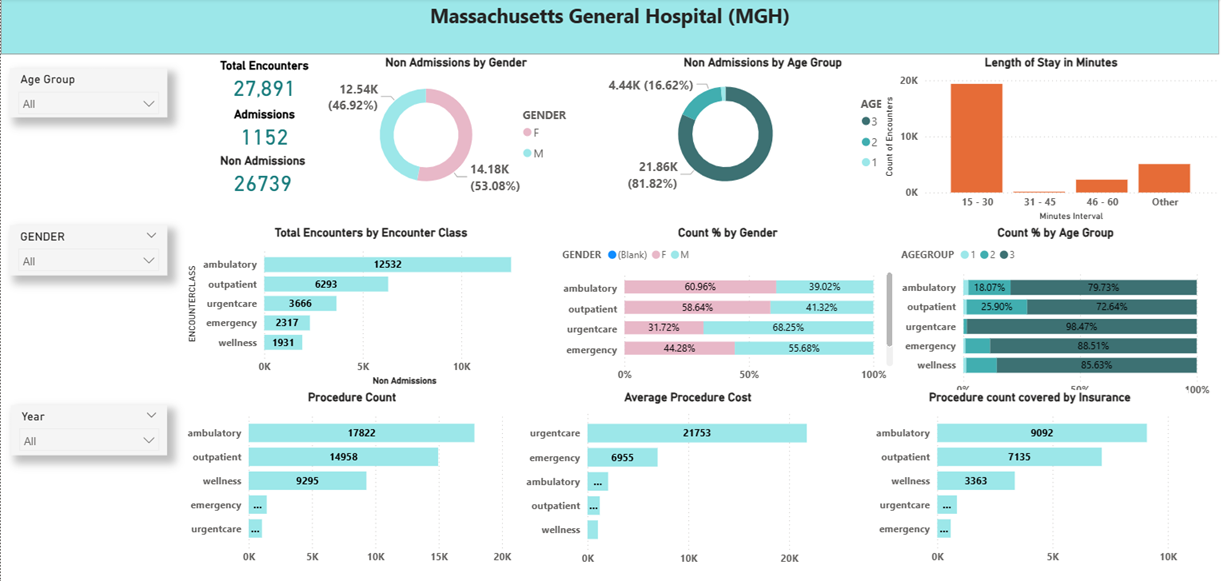

This screenshot's page, from the dashboard's own definition file:
{"tool":"powerbi","page":{"name":"Non Admissions","canvas":[1500,720],"ordinal":0},"visuals":[{"type":"textbox","box":[0,0,1490.6,68.6],"z":1000},{"type":"card","title":"Total Encounters","fields":{"Values":["CountNonNull(hospital_db encounters.Id)"]},"box":[223.8,73.6,197.7,59.2],"z":2000},{"type":"card","title":"Admissions","fields":{"Values":["CountNonNull(hospital_db encounters.LENGTHOFSTAY)"]},"box":[223.8,132.7,197.7,59.2],"z":3000},{"type":"card","title":"Non Admissions","fields":{"Values":["CountNonNull(hospital_db encounters.LENGTHOFSTAY)"]},"box":[222.4,189,196.2,59.2],"z":4000},{"type":"donutChart","title":"Non Admissions by Gender","fields":{"Y":["CountNonNull(hospital_db encounters.LENGTHOFSTAY)"],"Category":["hospital_db patients.GENDER"]},"box":[396.9,69.7,319.2,178.5],"z":5000},{"type":"donutChart","title":"Non Admissions by Age Group","fields":{"Y":["CountNonNull(hospital_db encounters.LENGTHOFSTAY)"],"Category":["AgeGroup.AGEGROUP"]},"box":[716.1,69.7,431.7,176.1],"z":6000},{"type":"hundredPercentStackedBarChart","title":"Count % by Gender","fields":{"Category":["hospital_db encounters.ENCOUNTERCLASS"],"Series":["hospital_db patients.GENDER"],"Y":["CountNonNull(hospital_db encounters.LENGTHOFSTAY)"]},"box":[681.9,277.6,414.5,201.8],"z":7000},{"type":"hundredPercentStackedBarChart","title":"Count % by Age Group","fields":{"Category":["hospital_db encounters.ENCOUNTERCLASS"],"Y":["CountNonNull(hospital_db encounters.LENGTHOFSTAY)"],"Series":["AgeGroup.AGEGROUP"]},"box":[1096.4,277.6,387.6,220.1],"z":8000},{"type":"barChart","title":"Total Encounters by Encounter Class","fields":{"Category":["hospital_db encounters.ENCOUNTERCLASS"],"Y":["CountNonNull(hospital_db encounters.LENGTHOFSTAY)"]},"box":[223.3,277.6,458.6,201.8],"z":9000},{"type":"clusteredColumnChart","title":"Length of Stay in Minutes","fields":{"Category":["hospital_db encounters.LENGTHOFSTAYMINUTES (List)"],"Y":["CountNonNull(hospital_db encounters.LENGTHOFSTAYMINUTES)"]},"box":[1076.8,69.7,415.8,207.9],"z":10000},{"type":"barChart","title":"Average Procedure Cost","fields":{"Category":["hospital_db encounters.ENCOUNTERCLASS"],"Y":["Avg(hospital_db procedures.BASE_COST)"]},"box":[637.7,478.8,407.6,224.3],"z":11000},{"type":"barChart","title":"Procedure count covered by Insurance","fields":{"Category":["hospital_db encounters.ENCOUNTERCLASS"],"Y":["CountNonNull(hospital_db procedures.ENCOUNTER)"]},"box":[1064.8,478.8,388,222.5],"z":12000},{"type":"barChart","title":"Procedure Count","fields":{"Category":["hospital_db encounters.ENCOUNTERCLASS"],"Y":["CountNonNull(hospital_db procedures.CODE)"]},"box":[223,478.8,414.7,222.5],"z":13000},{"type":"slicer","fields":{"Values":["hospital_db patients.GENDER"]},"box":[10.8,277.9,192.5,61.4],"z":14000},{"type":"slicer","fields":{"Values":["AgeGroup.DESCRIPTION"]},"box":[10.8,85.4,192.5,60.2],"z":15000},{"type":"slicer","fields":{"Values":["hospital_db encounters.START.Variation.Date Hierarchy.Year"]},"box":[12,498.1,191.3,61.4],"z":16000}]}

Visuals, with their boxes in screenshot pixels (x1, y1, x2, y2), scaled from the page's 1500x720 canvas onto the 1221x584 screenshot:
textbox: x1=0, y1=0, x2=1213, y2=56
"Total Encounters" card: x1=182, y1=60, x2=343, y2=108
"Admissions" card: x1=182, y1=108, x2=343, y2=156
"Non Admissions" card: x1=181, y1=153, x2=341, y2=201
"Non Admissions by Gender" donutChart: x1=323, y1=57, x2=583, y2=201
"Non Admissions by Age Group" donutChart: x1=583, y1=57, x2=934, y2=199
"Count % by Gender" hundredPercentStackedBarChart: x1=555, y1=225, x2=892, y2=389
"Count % by Age Group" hundredPercentStackedBarChart: x1=892, y1=225, x2=1208, y2=404
"Total Encounters by Encounter Class" barChart: x1=182, y1=225, x2=555, y2=389
"Length of Stay in Minutes" clusteredColumnChart: x1=877, y1=57, x2=1215, y2=225
"Average Procedure Cost" barChart: x1=519, y1=388, x2=851, y2=570
"Procedure count covered by Insurance" barChart: x1=867, y1=388, x2=1183, y2=569
"Procedure Count" barChart: x1=182, y1=388, x2=519, y2=569
slicer - hospital_db patients.GENDER: x1=9, y1=225, x2=165, y2=275
slicer - AgeGroup.DESCRIPTION: x1=9, y1=69, x2=165, y2=118
slicer - hospital_db encounters.START.Variation.Date Hierarchy.Year: x1=10, y1=404, x2=165, y2=454
